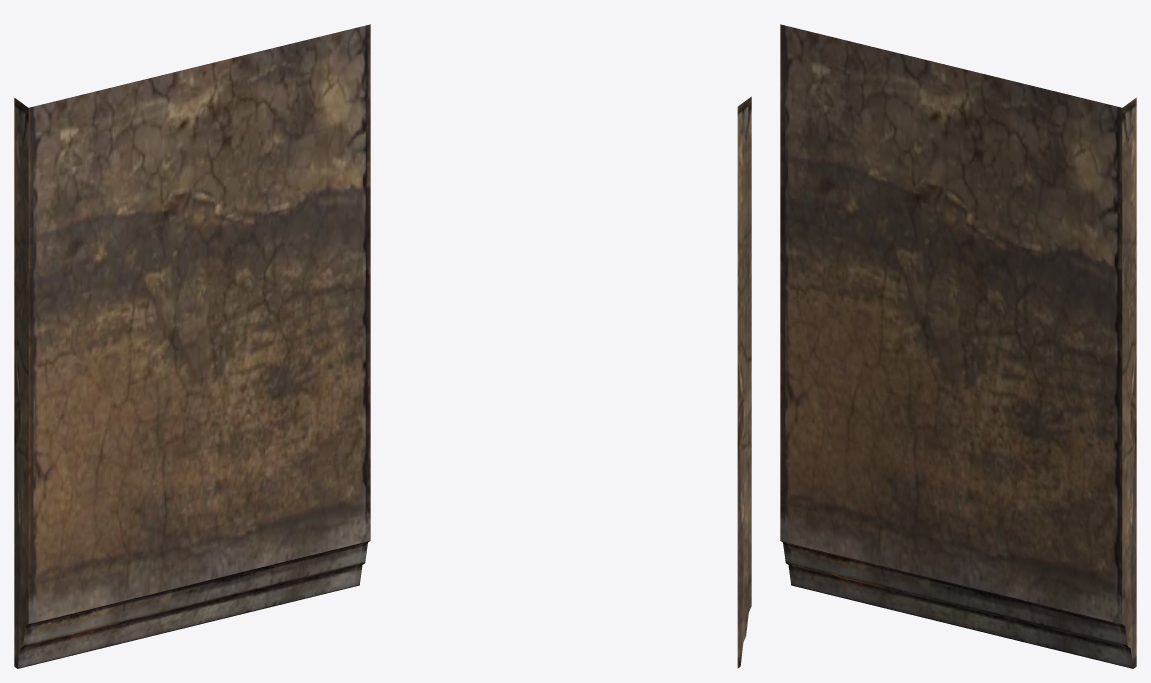
The picture shows the model from 3 angles, left to right: view 1: azimuth 30°, elevation 25°; view 2: azimuth 150°, elevation 25°; view 3: azimuth 330°, elevation 25°; orthographic projection.
Parts seen in each view (by area): view 1: model_Object33; view 2: model_Object33; view 3: model_Object33.
Boxes of the visible parts, x1,y1,x2,y2 form: model_Object33: (14, 24, 370, 668); model_Object33: (737, 96, 751, 668); model_Object33: (780, 24, 1136, 668).
Bounding box in the file's own units: 3.16 × 5.02 × 0.2287.
Materials: 1 (1 with a texture image).
